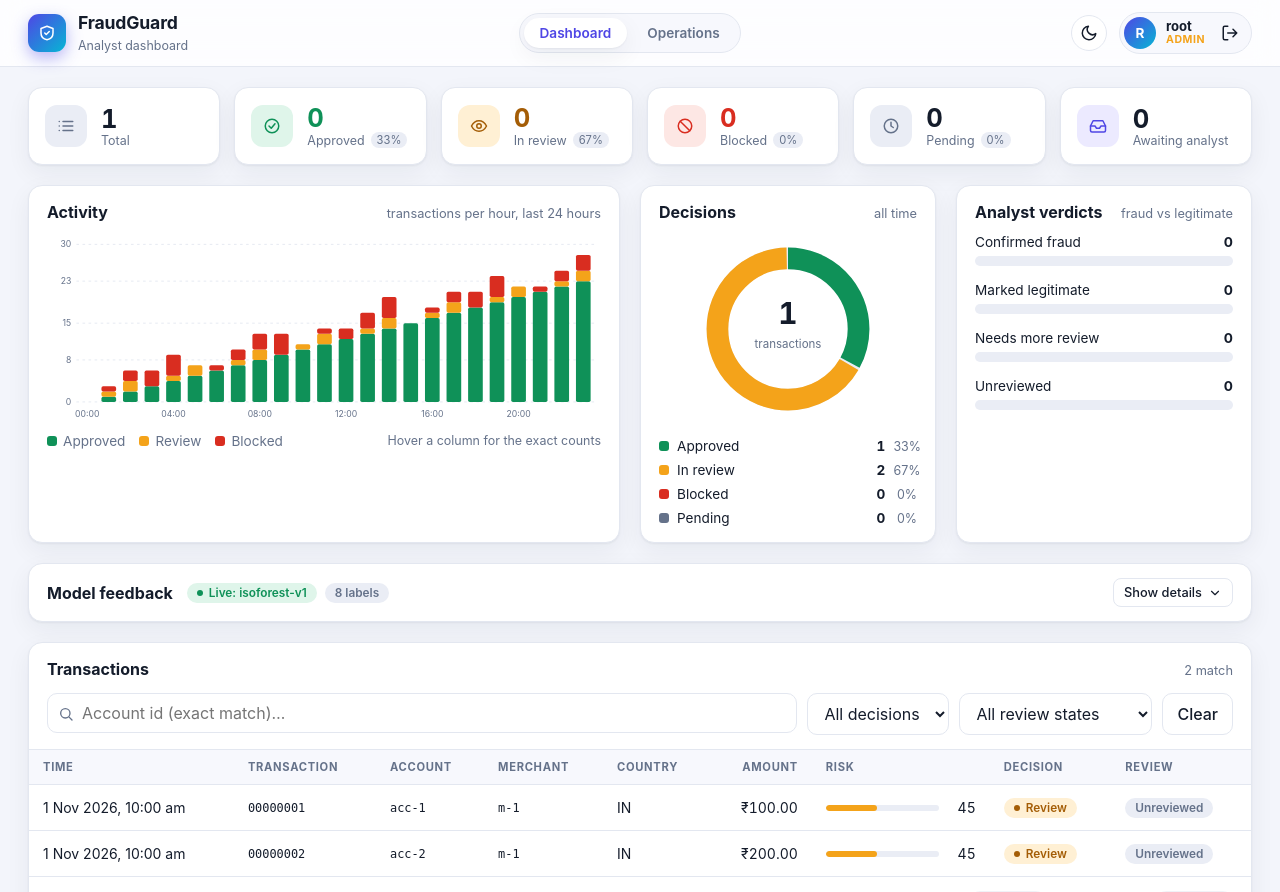
system status › shows an error when the status cannot be read, without breaking the rest of the tab
The width and height of the screenshot is (1280, 892).
Click the button "Operations". click: click(683, 33)
box: [631, 18, 736, 48]
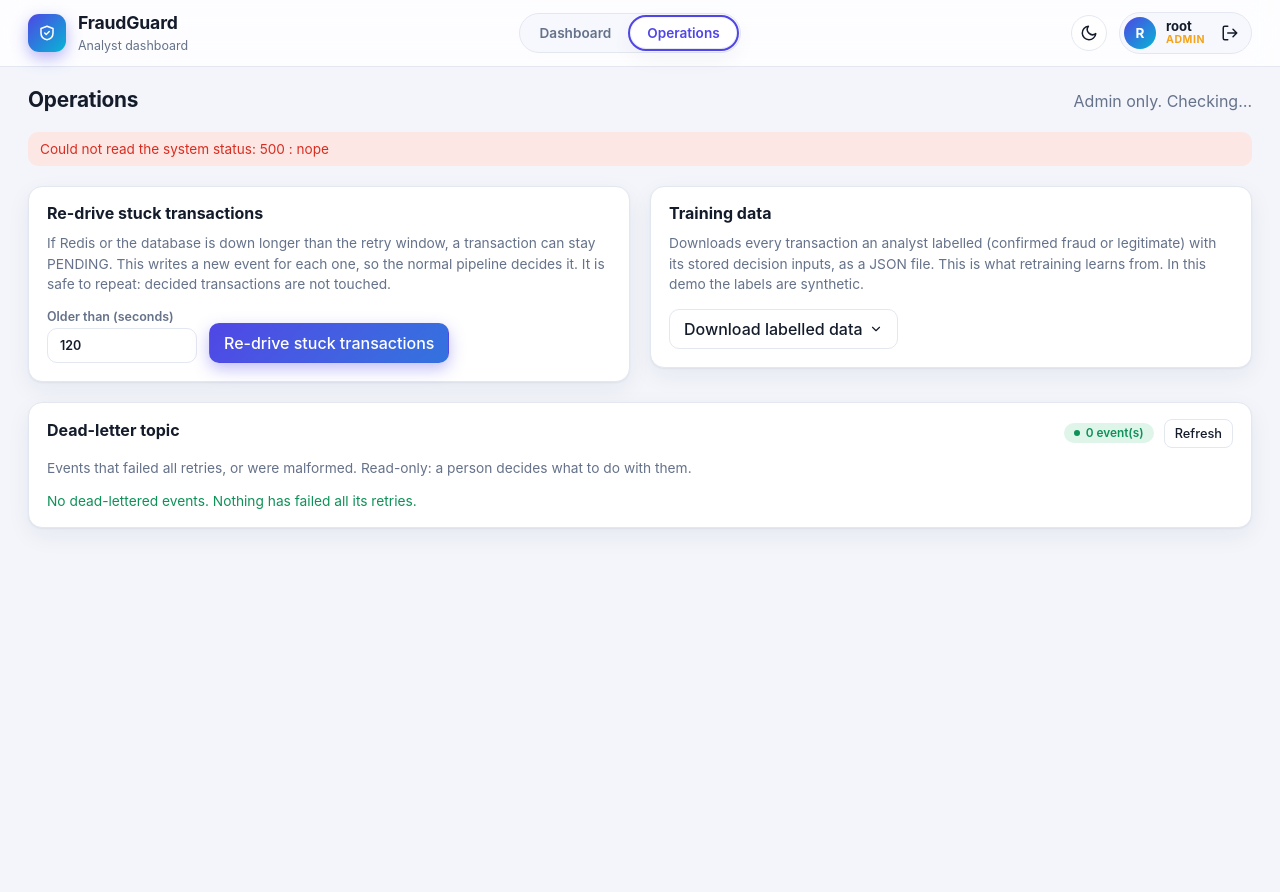
Now the text "Could not read the system status: 500 : nope" is shown, box [28, 132, 1252, 166]
Now the button "Re-drive stuck transactions" is shown, box [209, 323, 450, 363]
